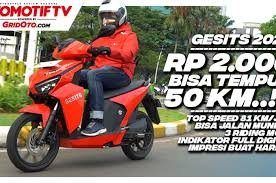motor: (3, 39, 162, 170)
